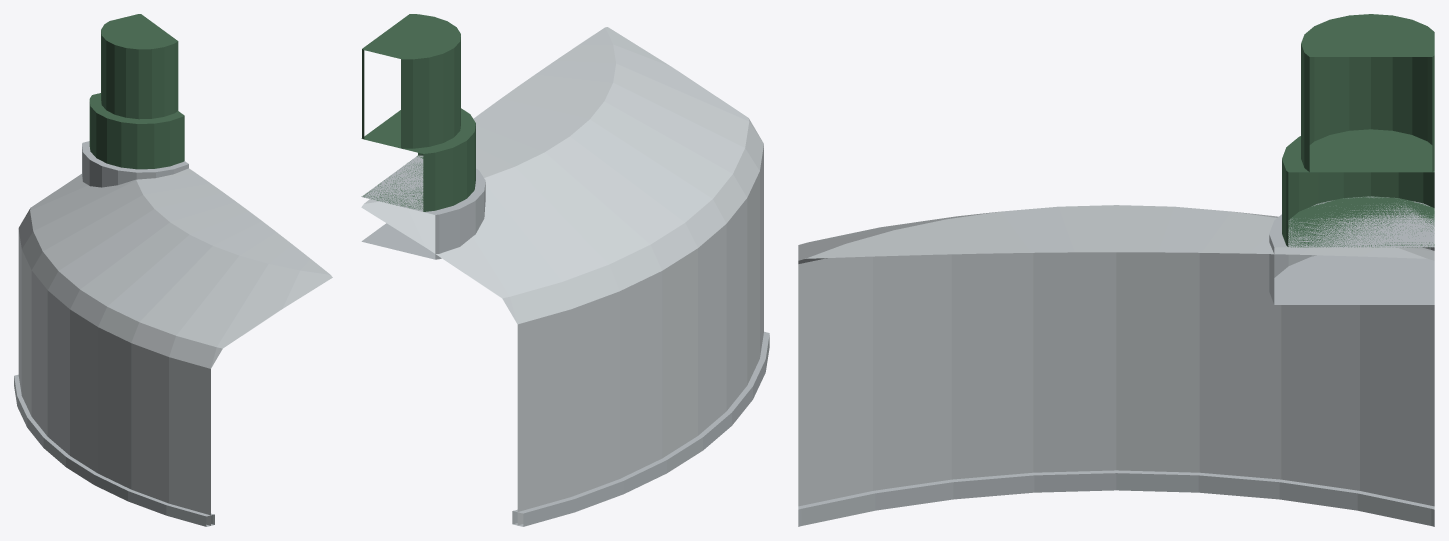
Rendered from cell_30.obj.
3 views of the same model, side by side, from view 1: azimuth 30°, elevation 25°; view 2: azimuth 150°, elevation 25°; view 3: azimuth 270°, elevation 25° (orthographic). The views are drawn at different scales.
Bounding box in the file's own units: 0.512 × 0.98 × 1.
